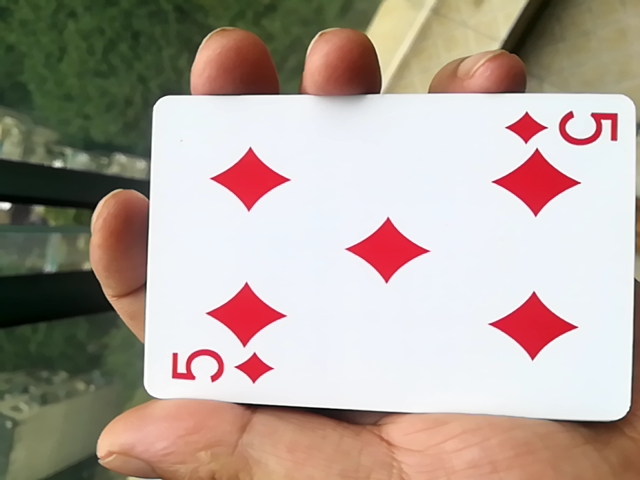fk 5: (124, 98, 637, 430)
